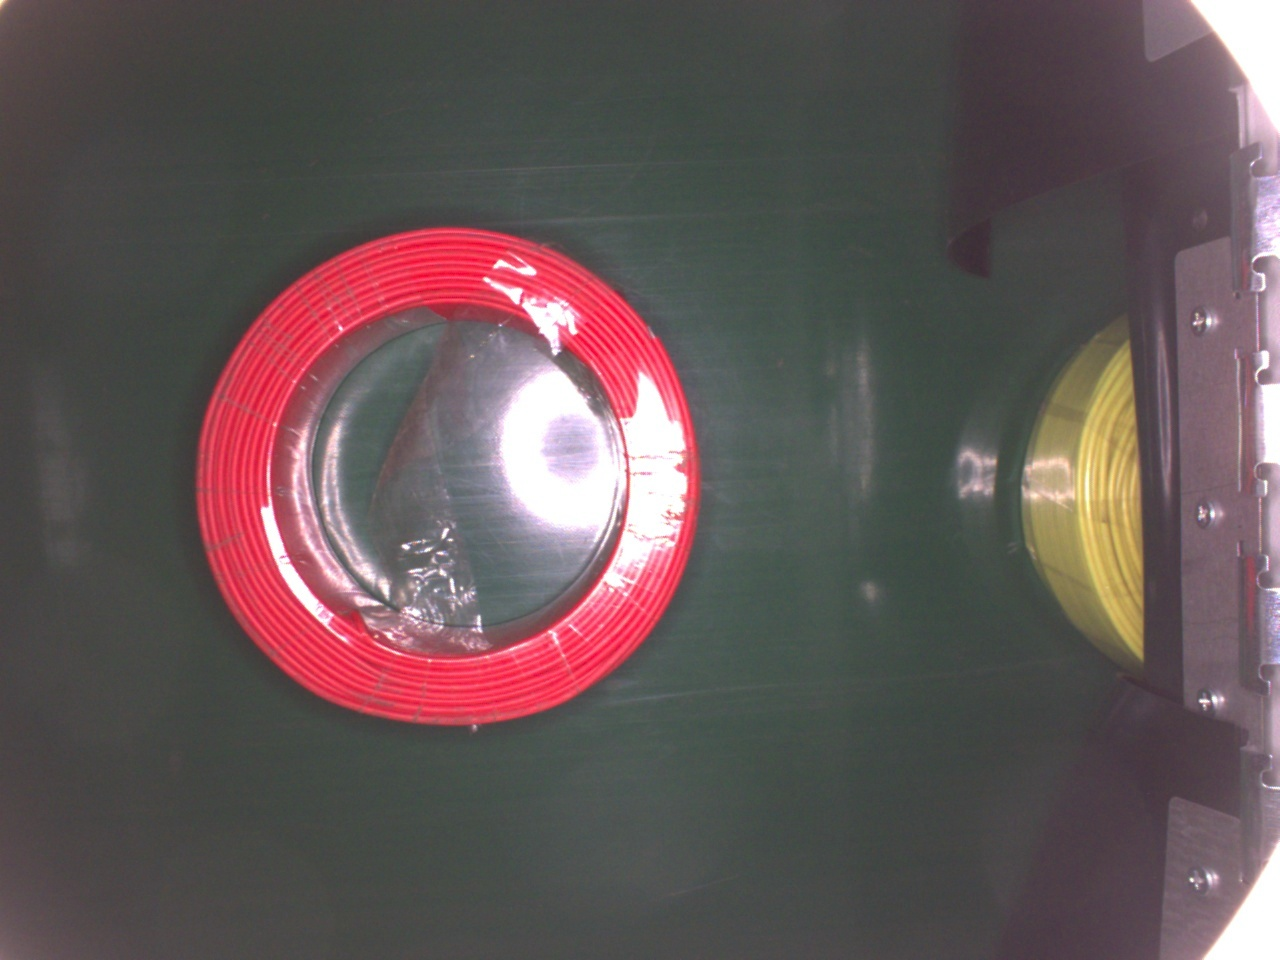red: (195, 224, 698, 728)
yellow: (1022, 310, 1146, 674)
